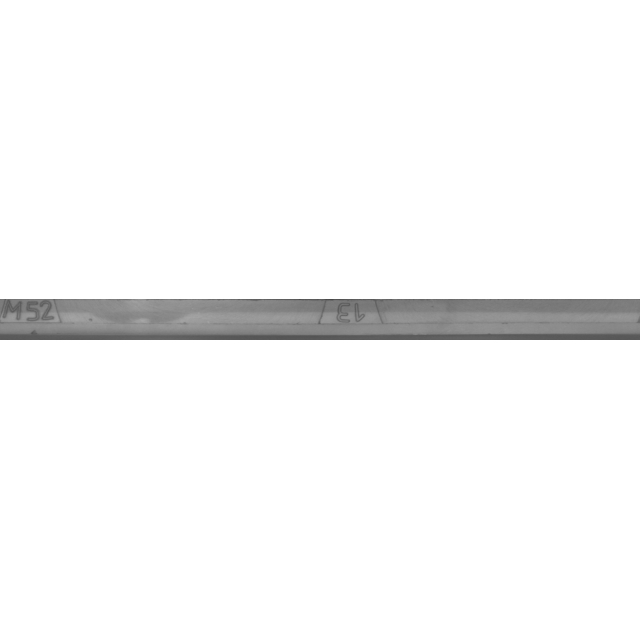mohao: (0, 270, 122, 370)
xuehao: (249, 270, 449, 370)
